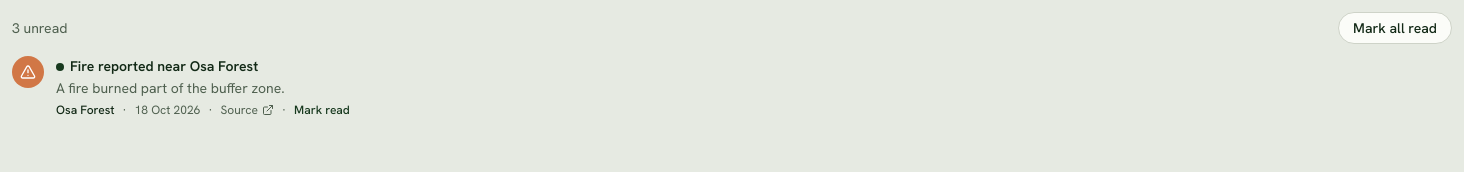
Test: AlertsList › asks the API for one community's alerts and marks only those read
The image size is (1464, 172).
Check: the text "3 unread" is shown, box x1=12 y1=18 x2=68 y2=38
Click the button "Mark all read" at (1395, 28), box x1=1338 y1=12 x2=1452 y2=44
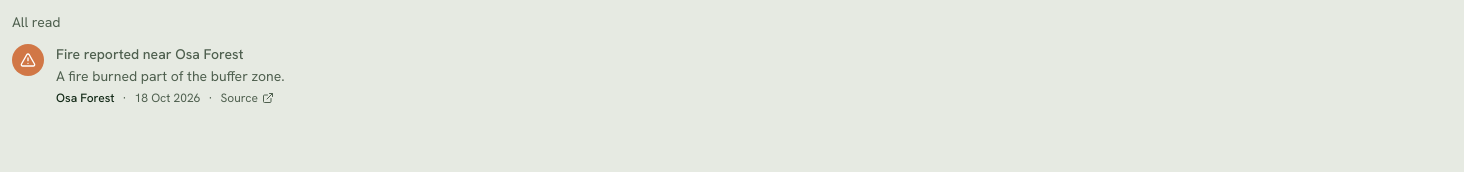
Check: the text "All read" is shown, box x1=12 y1=12 x2=60 y2=32
